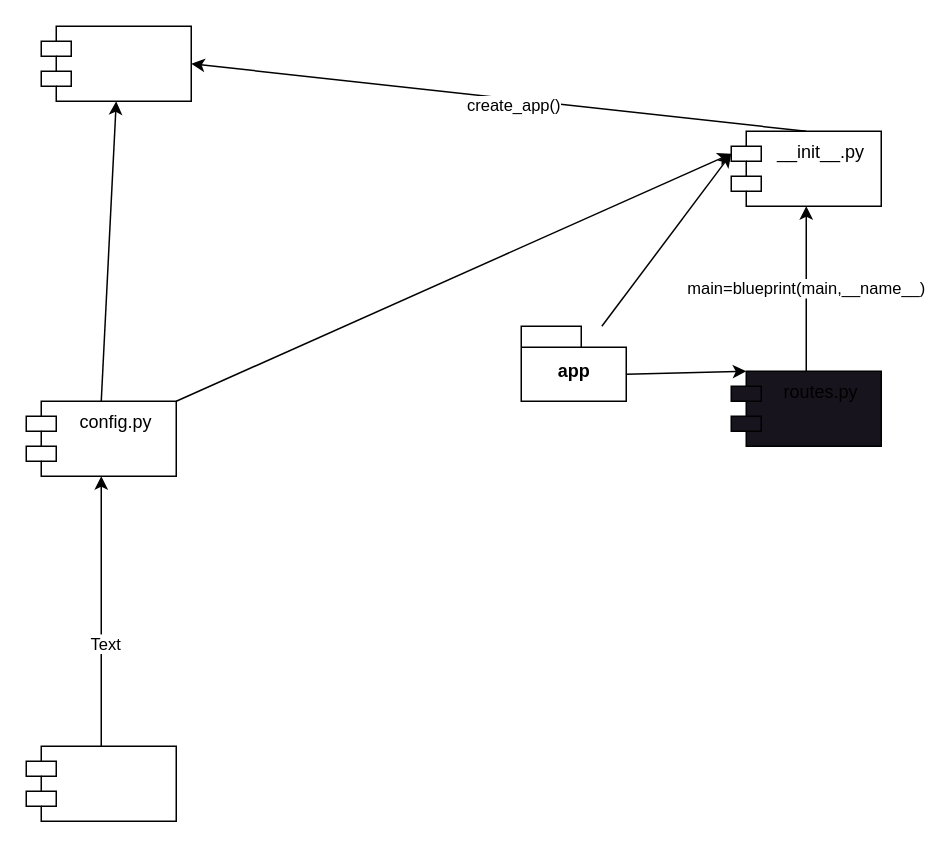
Image size: 951x848. Some labels were removed from this diagram. Each missing label, with the centre of its shape:
".env" belongs at point 100,783.
"run.py" belongs at point 115,63.
